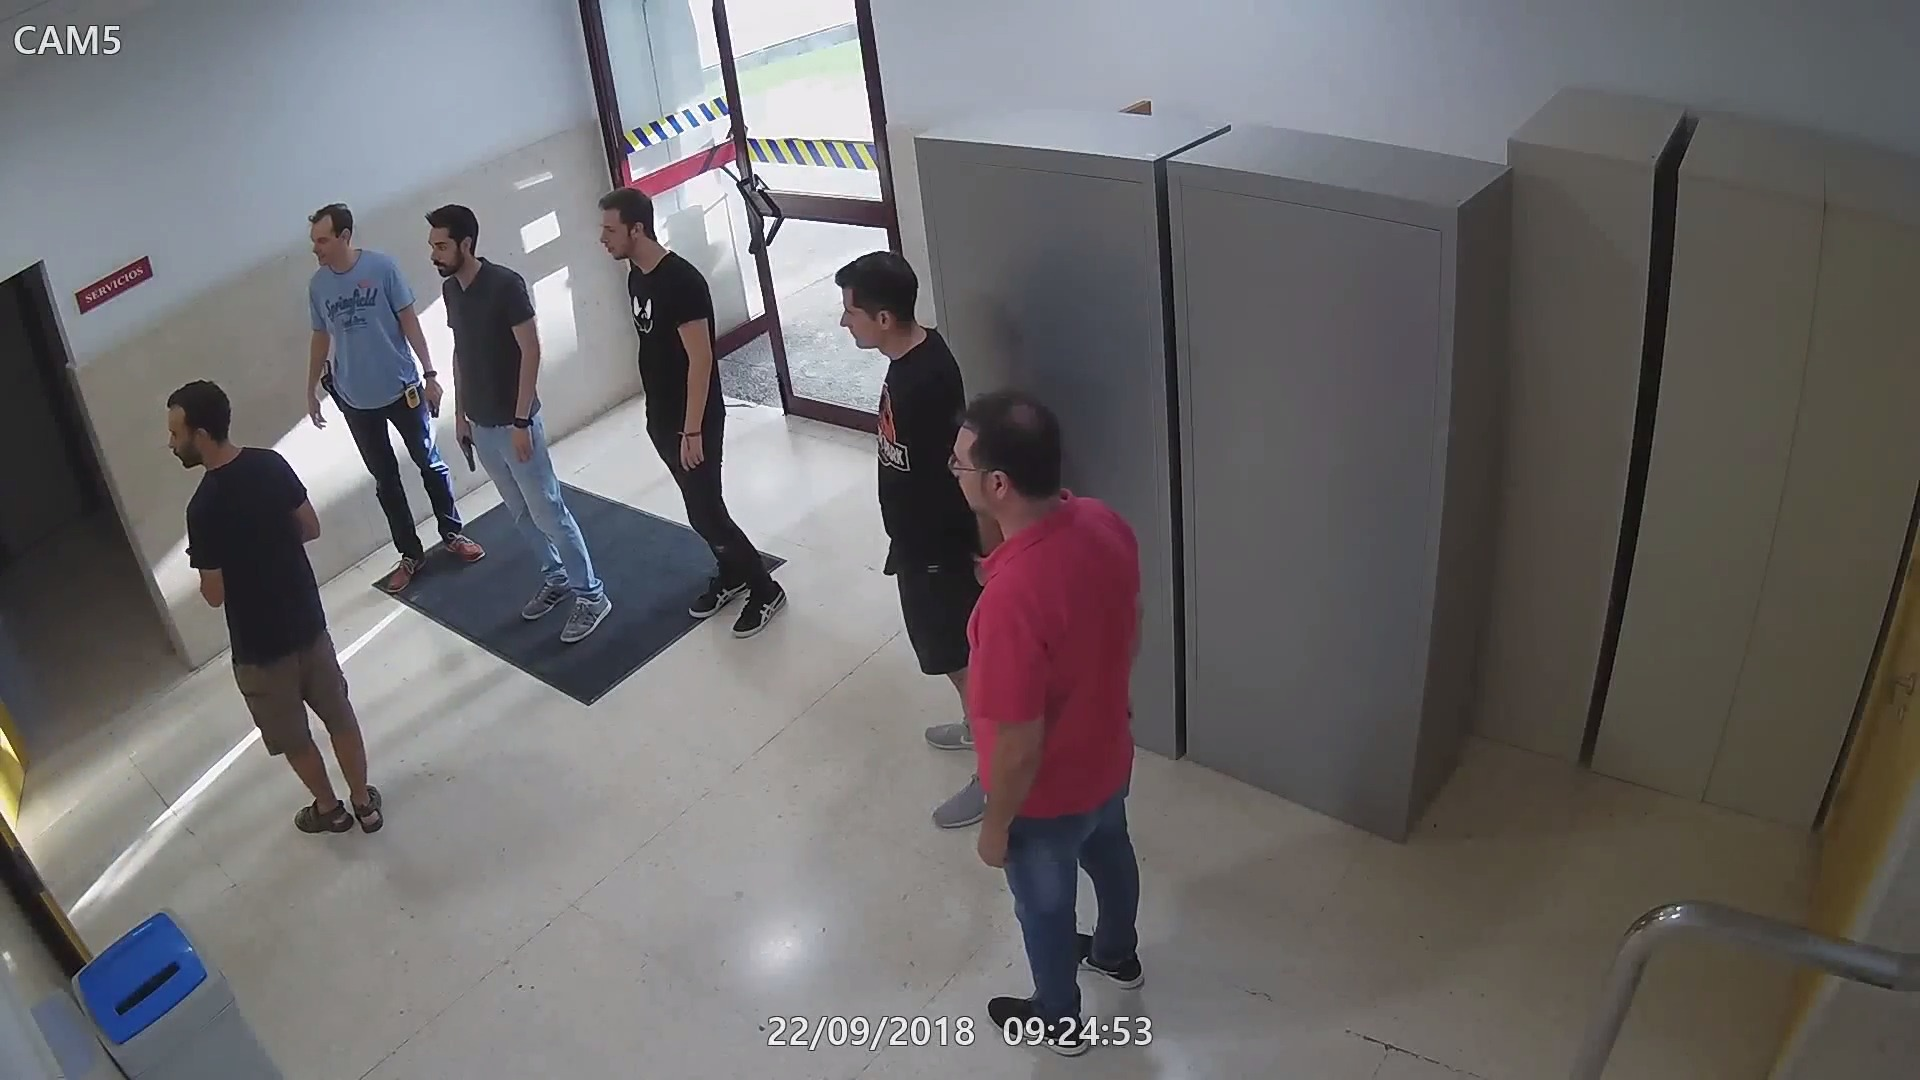Handgun: (454, 411, 483, 473), (316, 353, 343, 415), (882, 527, 899, 580)
Knife: (415, 367, 444, 462)
